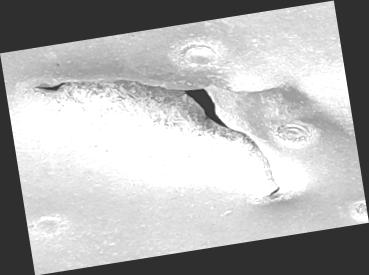crack: (1, 0, 369, 275)
